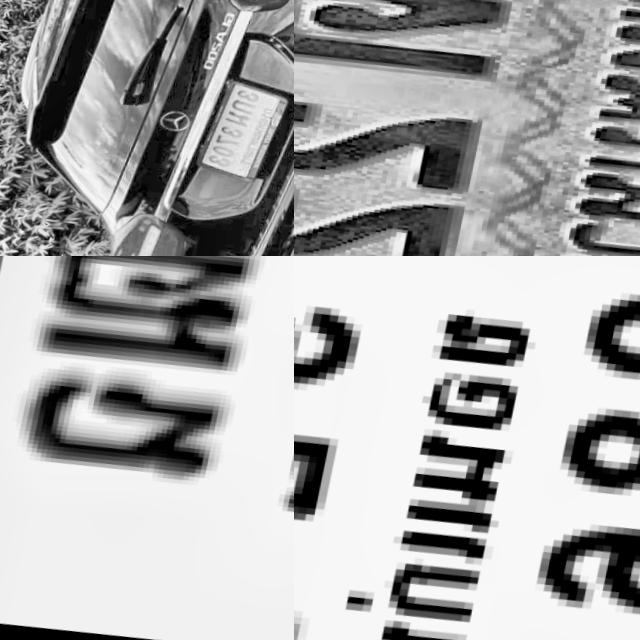license-plate: (294, 256, 640, 640), (0, 256, 294, 640), (294, 0, 640, 256), (195, 70, 294, 190)
